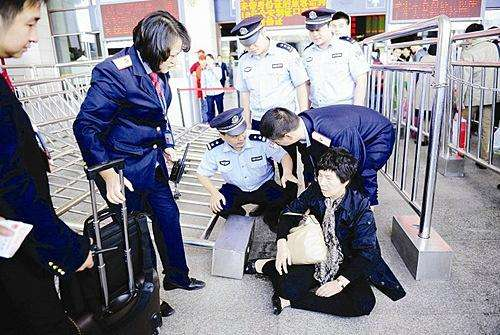10+: (2, 2, 500, 327)
down: (243, 145, 394, 321)
